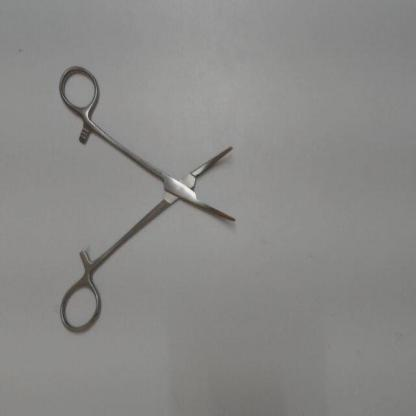Crile Artery Forceps: (56, 58, 250, 339)
